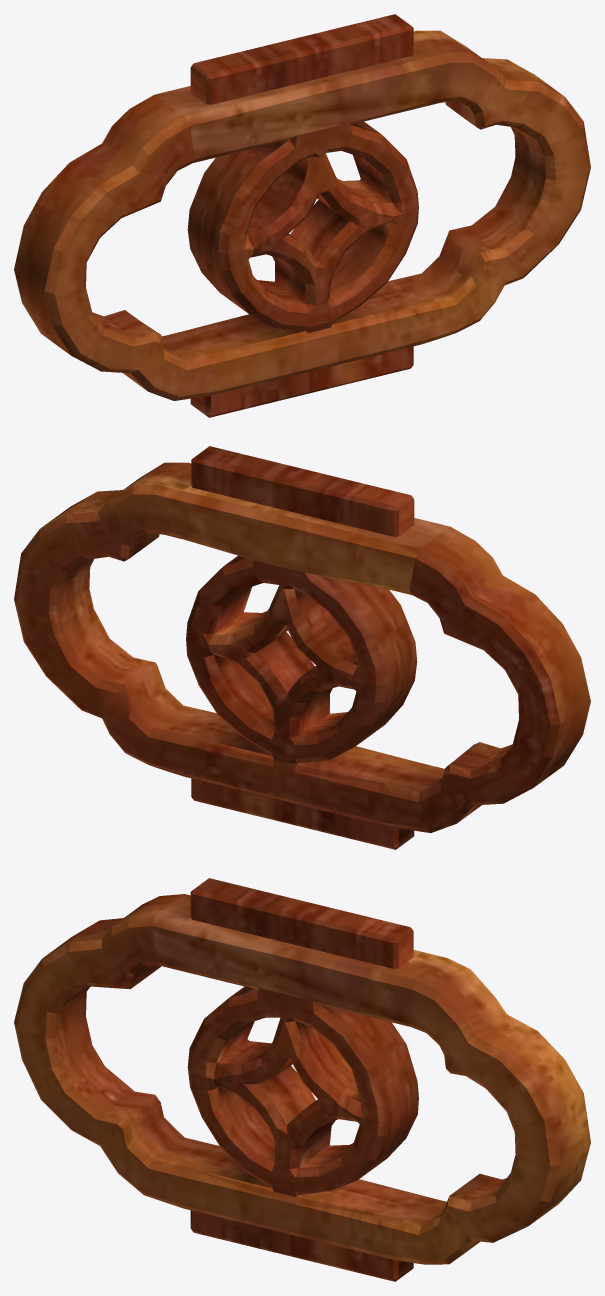
Rendered from SJ_J_hua_1_007.FBX.
The picture shows the model from 3 angles, top to bottom: view 1: azimuth 30°, elevation 25°; view 2: azimuth 150°, elevation 25°; view 3: azimuth 330°, elevation 25°; orthographic projection.
Parts seen in each view (by area): view 1: SJ_J_hua_1_007; view 2: SJ_J_hua_1_007; view 3: SJ_J_hua_1_007.
Boxes of the visible parts, x1,y1,x2,y2 form: SJ_J_hua_1_007: (14, 14, 590, 417); SJ_J_hua_1_007: (14, 446, 590, 849); SJ_J_hua_1_007: (14, 878, 590, 1281).
Bounding box in the file's own units: 9.99 × 6 × 1.25.
Materials: 1 (1 with a texture image).
